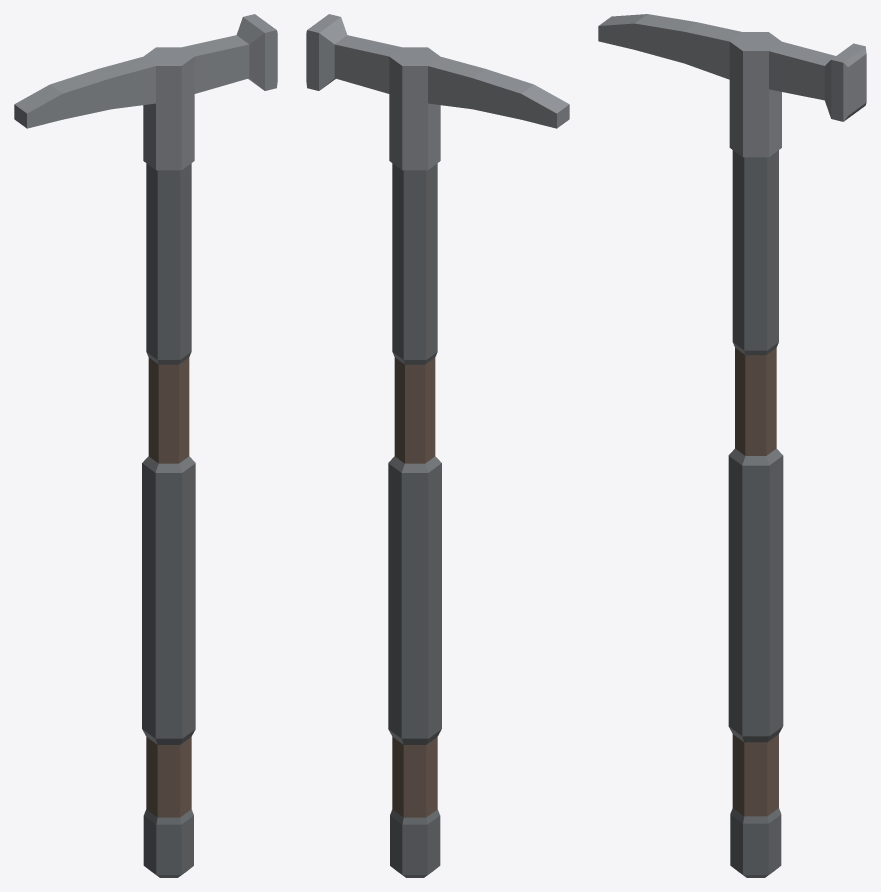
Rendered from Poleaxe.001.fbx.
3 renders of one model, left to right at view 1: azimuth 30°, elevation 25°; view 2: azimuth 150°, elevation 25°; view 3: azimuth 330°, elevation 25°, orthographic.
Visible parts, largest first — view 1: Poleaxe.001; view 2: Poleaxe.001; view 3: Poleaxe.001.
Boxes of the visible parts, left/top/right/bottom form: Poleaxe.001: left=14, top=14, right=277, bottom=877; Poleaxe.001: left=306, top=14, right=569, bottom=877; Poleaxe.001: left=598, top=14, right=866, bottom=877.
Size of the model in its own units: 18.13 by 57.71 by 3.4.
